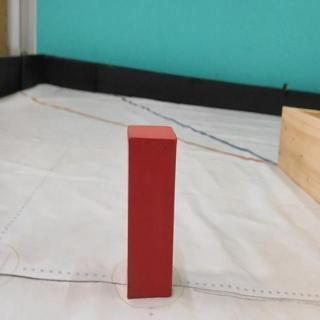redbox: (127, 124, 176, 298)
